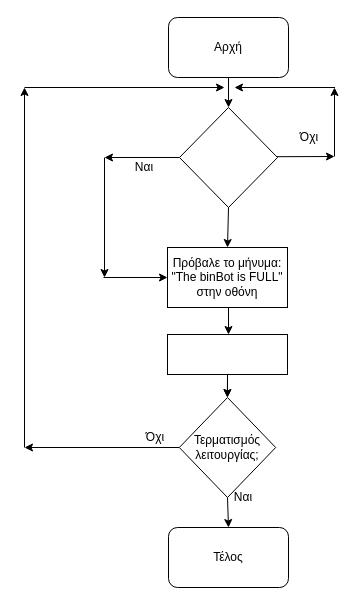
Image size: 361x605. Some labels were removed from this diagram. Each missing label, with the centre of its shape:
"Ασφάλισε το καπάκι του δοχείου" belongs at (x=227, y=354).
"Είναι γεμάτο το δοχείο;" belongs at (x=228, y=157).
